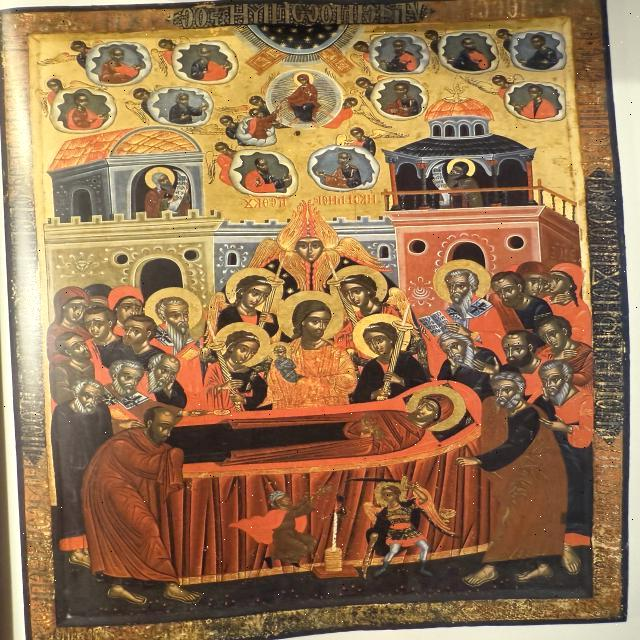aura: (278, 292, 344, 342), (145, 287, 203, 338), (212, 323, 270, 369), (353, 317, 413, 360), (334, 266, 388, 312), (227, 265, 281, 310), (435, 261, 491, 303)
book: (416, 305, 460, 342)
christ: (264, 293, 354, 407)
mary_dead: (168, 382, 484, 486)
